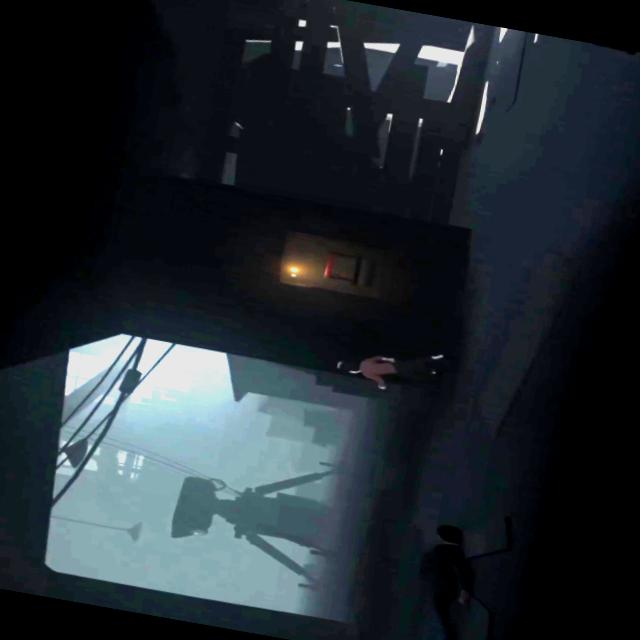boy: (334, 336, 449, 398)
zombie: (399, 521, 482, 640)
